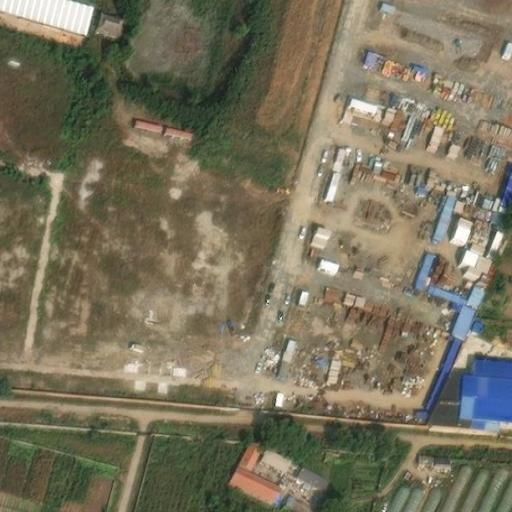building: (227, 432, 296, 501), (419, 324, 465, 413), (431, 367, 512, 415), (453, 209, 504, 245), (453, 276, 485, 329), (427, 190, 458, 243), (287, 456, 331, 492), (319, 152, 347, 203), (342, 92, 383, 121), (413, 245, 441, 287), (486, 166, 512, 210), (426, 274, 468, 301), (273, 335, 300, 372), (92, 3, 123, 33), (306, 222, 333, 251), (159, 120, 195, 141), (462, 245, 492, 270), (422, 122, 446, 153), (129, 114, 164, 135), (480, 352, 512, 372), (313, 253, 340, 276), (407, 59, 431, 80), (441, 139, 462, 160), (360, 48, 380, 69), (428, 453, 451, 469), (376, 0, 397, 17), (498, 38, 512, 59)
